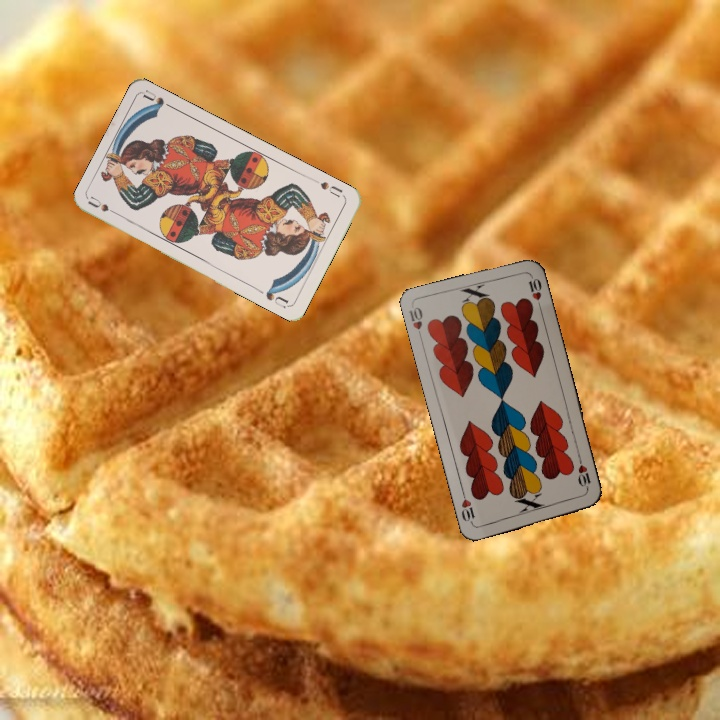H10: (405, 303, 425, 343), (574, 454, 593, 494)
SU: (85, 193, 124, 220), (309, 175, 347, 200)
